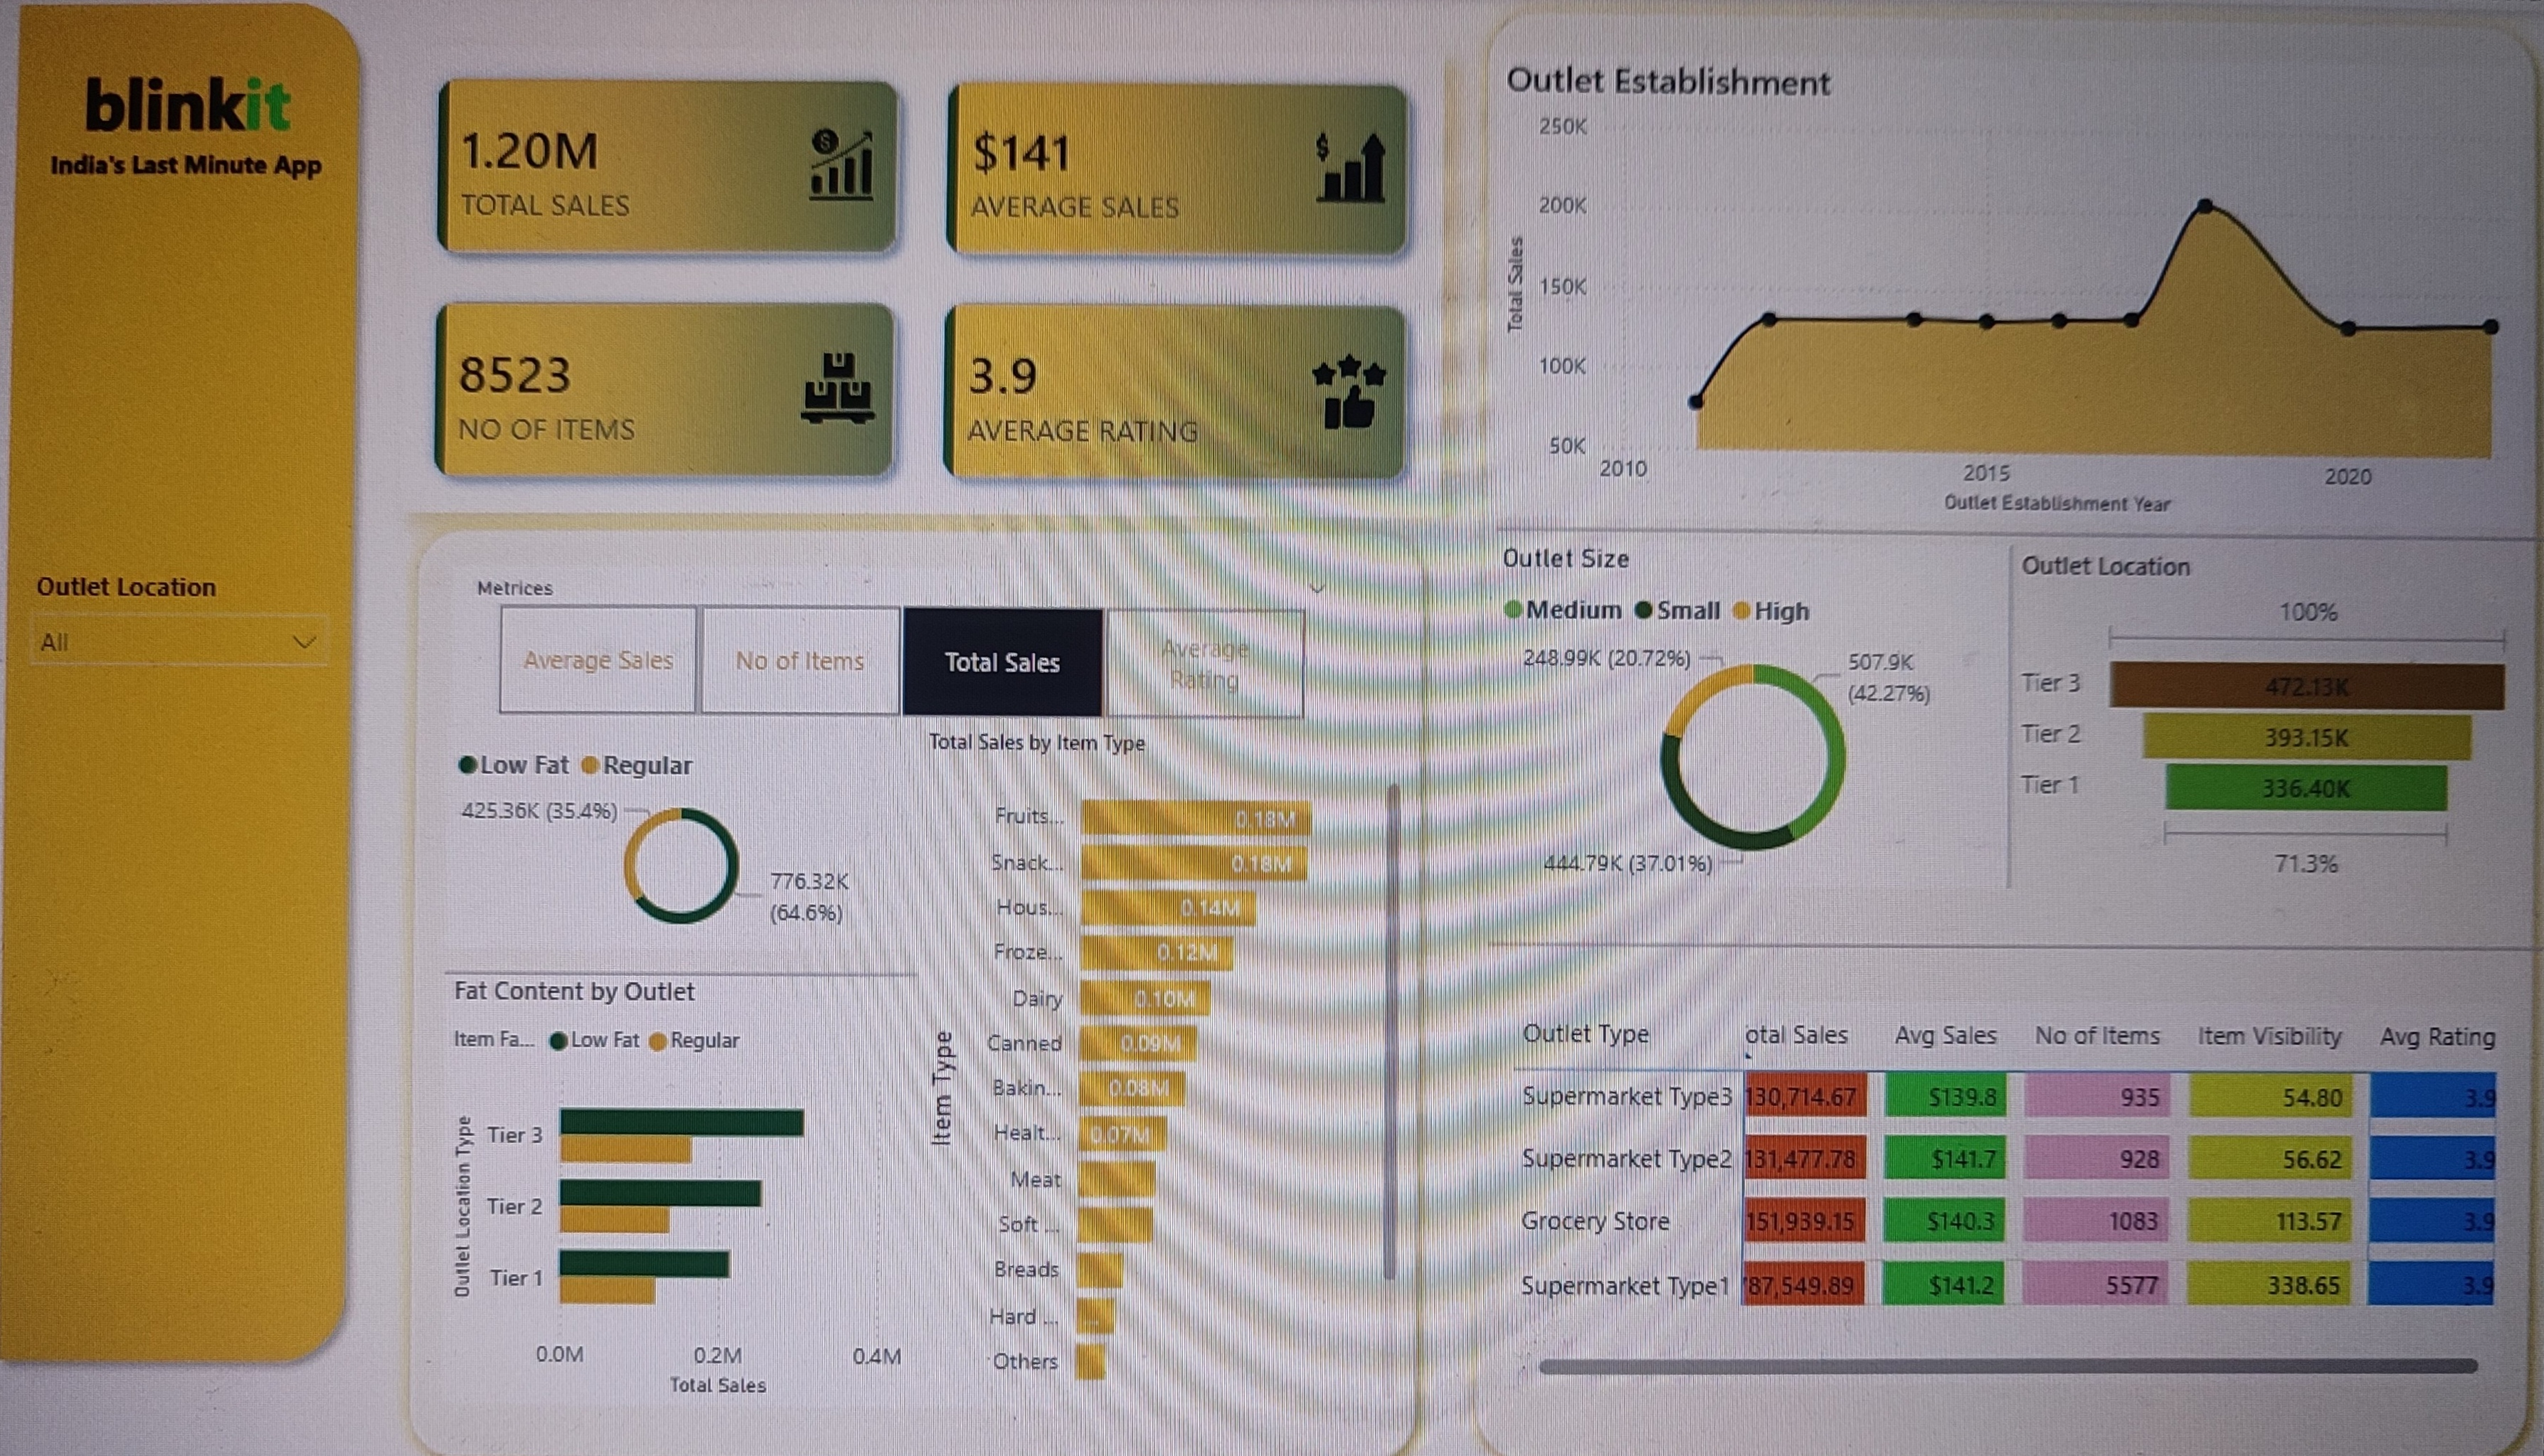

The dashboard page shown, as its layout file describes it:
{"tool":"powerbi","page":{"name":"Page 1","canvas":[1400,800],"ordinal":0},"visuals":[{"type":"shape","box":[10,0,205,750],"z":0},{"type":"textbox","box":[23.4,32.4,179.9,100.8],"z":1000},{"type":"cardVisual","fields":{"Data":["BlinkIT grocery Data.Total Sales","BlinkIT grocery Data.Average Sales","BlinkIT grocery Data.No of Items","BlinkIT grocery Data.Average Rating"]},"box":[232.1,32.4,559.5,251.9],"z":2000},{"type":"shape","box":[232.1,284.3,559.5,516.4],"z":3000},{"type":"donutChart","fields":{"Y":["BlinkIT grocery Data.Total Sales"],"Category":["BlinkIT grocery Data.Item Fat Content"]},"box":[259.1,399.4,253.7,118.7],"z":4000},{"type":"slicer","fields":{"Values":["Metrices.Metrices"]},"box":[260.8,313.7,482.4,86.3],"z":5000},{"type":"clusteredBarChart","title":"Fat Content by Outlet","fields":{"Y":["BlinkIT grocery Data.Total Sales"],"Series":["BlinkIT grocery Data.Item Fat Content"],"Category":["BlinkIT grocery Data.Outlet Location Type"]},"box":[259.1,530.7,253.7,232.1],"z":6000},{"type":"clusteredBarChart","fields":{"Y":["BlinkIT grocery Data.Total Sales"],"Category":["BlinkIT grocery Data.Item Type"]},"box":[512.8,399.4,264.5,363.4],"z":7000},{"type":"shape","box":[806,0,593.7,800.6],"z":8000},{"type":"lineChart","title":"Outlet Establishment","fields":{"Y":["BlinkIT grocery Data.Total Sales"],"Category":["BlinkIT grocery Data.Outlet Establishment Year"]},"box":[820.4,32.4,563.1,251.9],"z":9000},{"type":"shape","box":[259.1,399.4,253.7,264.5],"z":10000},{"type":"donutChart","title":"Outlet Size","fields":{"Y":["BlinkIT grocery Data.Total Sales"],"Category":["BlinkIT grocery Data.Outlet Size"]},"box":[820.4,296.9,282.5,185.3],"z":11000},{"type":"shape","box":[975.1,296.9,253.7,185.3],"z":12000},{"type":"funnel","title":"Outlet Location","fields":{"Category":["BlinkIT grocery Data.Outlet Location Type"],"Y":["BlinkIT grocery Data.Total Sales"]},"box":[1102.9,296.9,280.7,185.3],"z":13000},{"type":"shape","box":[820.4,496.6,577.5,34.2],"z":14000},{"type":"shape","box":[822.2,158.3,577.5,264.5],"z":15000},{"type":"pivotTable","fields":{"Rows":["BlinkIT grocery Data.Outlet Type"],"Values":["BlinkIT grocery Data.Total Sales","BlinkIT grocery Data.Average Sales","BlinkIT grocery Data.No of Items","Sum(BlinkIT grocery Data.Item Visibility)","BlinkIT grocery Data.Average Rating"]},"box":[829.4,543.3,546.9,206.9],"z":16000},{"type":"slicer","fields":{"Values":["BlinkIT grocery Data.Outlet Location Type"]},"box":[23.4,309.5,179.9,81],"z":17000}]}

Visuals, with their boxes in screenshot pixels (x1, y1, x2, y2), scaled from the page's 1400x800 canvas onto the 2544x1456 screenshot:
shape: bbox(18, 0, 391, 1365)
textbox: bbox(43, 59, 369, 243)
cardVisual - BlinkIT grocery Data.Total Sales x BlinkIT grocery Data.Average Sales: bbox(422, 59, 1438, 517)
shape: bbox(422, 517, 1438, 1455)
donutChart - BlinkIT grocery Data.Total Sales x BlinkIT grocery Data.Item Fat Content: bbox(471, 727, 932, 943)
slicer - Metrices.Metrices: bbox(474, 571, 1350, 728)
"Fat Content by Outlet" clusteredBarChart: bbox(471, 966, 932, 1388)
clusteredBarChart - BlinkIT grocery Data.Total Sales x BlinkIT grocery Data.Item Type: bbox(932, 727, 1412, 1388)
shape: bbox(1465, 0, 2543, 1455)
"Outlet Establishment" lineChart: bbox(1491, 59, 2514, 517)
shape: bbox(471, 727, 932, 1208)
"Outlet Size" donutChart: bbox(1491, 541, 2004, 878)
shape: bbox(1772, 541, 2233, 878)
"Outlet Location" funnel: bbox(2004, 541, 2514, 878)
shape: bbox(1491, 904, 2540, 966)
shape: bbox(1494, 288, 2543, 770)
pivotTable - BlinkIT grocery Data.Outlet Type x BlinkIT grocery Data.Total Sales: bbox(1507, 989, 2501, 1366)
slicer - BlinkIT grocery Data.Outlet Location Type: bbox(43, 563, 369, 711)
